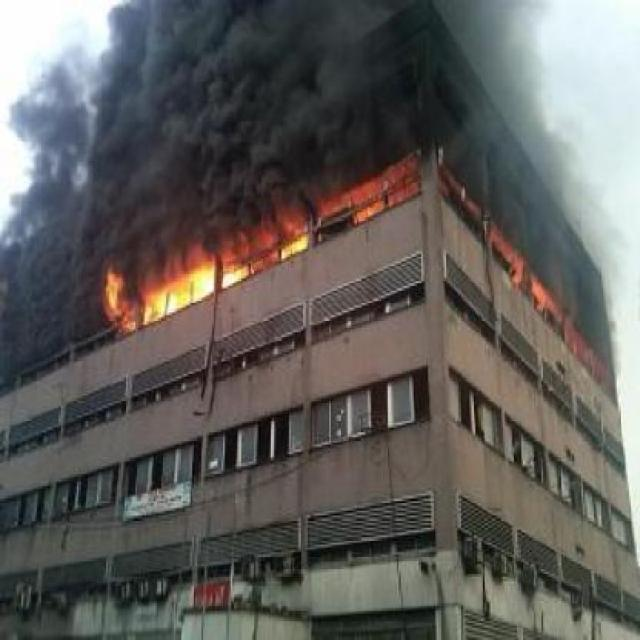Fire: (89, 183, 332, 379)
Smoke: (94, 3, 378, 171)
